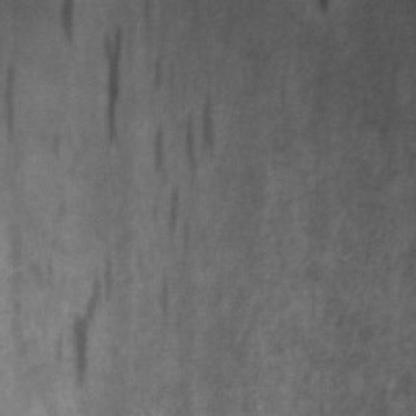inclusion: (142, 89, 223, 235), (56, 245, 119, 385), (85, 15, 133, 152), (50, 0, 73, 48)
